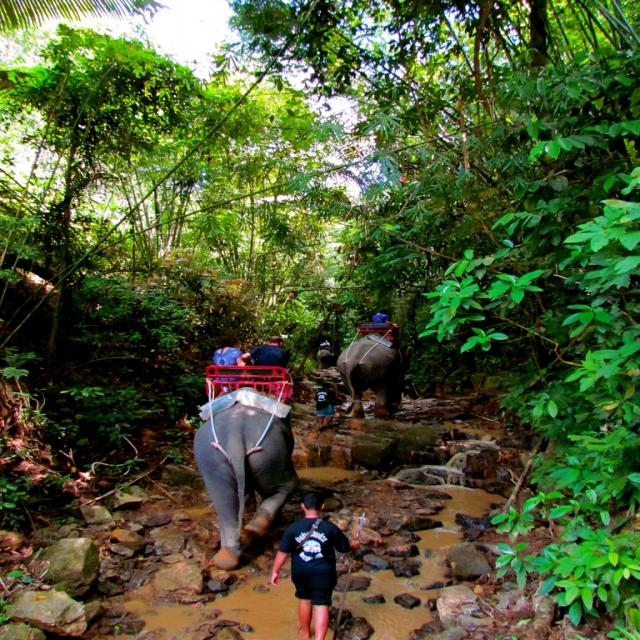elephant: (190, 406, 300, 571), (323, 326, 412, 419)
